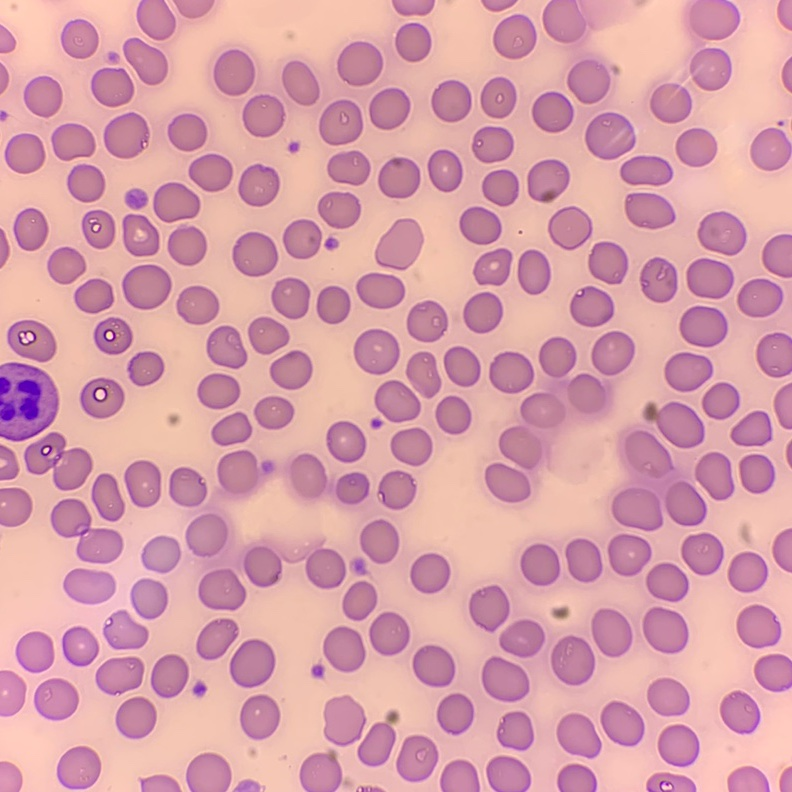RBC: (485, 337, 612, 502), (186, 450, 286, 609), (612, 429, 706, 530), (543, 0, 610, 103), (281, 41, 382, 105), (283, 454, 376, 516), (688, 0, 739, 90), (0, 363, 58, 441), (51, 499, 122, 562), (25, 433, 92, 489), (643, 402, 704, 447), (585, 112, 635, 159), (376, 219, 422, 269), (242, 82, 284, 136), (122, 265, 171, 309), (642, 607, 688, 653), (230, 639, 274, 687), (551, 636, 594, 685), (358, 711, 397, 765), (482, 657, 529, 701), (123, 38, 167, 84), (698, 212, 746, 254), (103, 113, 148, 157), (232, 232, 277, 276), (354, 329, 399, 373), (299, 545, 345, 588), (7, 320, 55, 361), (319, 99, 362, 144), (213, 49, 255, 95), (591, 609, 632, 656), (493, 14, 536, 58), (601, 701, 644, 745), (323, 626, 365, 671), (680, 306, 727, 346), (325, 697, 364, 745), (557, 714, 600, 757), (57, 746, 100, 789), (592, 331, 634, 375), (737, 605, 781, 647), (34, 678, 78, 720), (375, 380, 420, 421), (397, 735, 437, 781), (665, 352, 712, 391), (548, 207, 591, 249), (489, 352, 533, 393), (469, 586, 509, 631), (687, 259, 733, 298), (695, 452, 733, 499), (95, 657, 143, 694), (608, 534, 650, 576), (528, 159, 569, 202), (369, 611, 409, 655), (153, 183, 199, 221), (681, 533, 723, 574), (240, 695, 279, 739), (625, 193, 674, 228), (499, 619, 544, 657), (64, 569, 114, 603), (369, 88, 410, 129), (532, 91, 573, 132), (196, 618, 237, 659), (413, 645, 454, 686), (658, 725, 699, 766), (751, 128, 791, 170), (356, 273, 404, 308), (520, 543, 560, 585), (648, 83, 691, 122), (570, 287, 613, 326), (80, 378, 123, 417), (360, 519, 398, 563), (186, 753, 230, 791), (737, 279, 782, 316), (431, 80, 471, 121), (378, 157, 419, 197), (239, 164, 279, 205), (116, 697, 156, 738), (300, 751, 341, 791), (207, 326, 246, 368), (720, 691, 759, 733), (104, 611, 147, 649), (565, 538, 602, 582), (151, 654, 188, 698), (407, 301, 447, 341), (589, 242, 628, 283), (326, 421, 365, 462), (91, 68, 133, 106), (646, 563, 688, 601), (189, 154, 232, 191), (640, 258, 677, 301), (125, 461, 160, 506), (23, 76, 62, 116), (463, 292, 502, 332), (728, 552, 767, 592), (410, 553, 449, 593), (177, 286, 218, 324), (270, 351, 311, 389), (647, 678, 689, 715), (406, 352, 440, 397), (5, 134, 44, 173), (676, 128, 716, 166), (271, 278, 309, 318), (91, 474, 124, 520), (460, 207, 501, 244), (391, 428, 432, 465), (52, 123, 94, 159), (318, 192, 360, 228), (487, 756, 530, 791), (137, 0, 175, 39), (168, 226, 206, 265), (16, 632, 53, 672), (621, 156, 672, 185), (122, 214, 158, 255), (437, 693, 473, 734), (757, 333, 791, 376), (283, 220, 321, 258), (61, 19, 98, 58), (169, 467, 206, 506), (248, 317, 288, 353), (472, 127, 513, 162), (198, 373, 239, 408), (13, 208, 47, 250), (168, 113, 206, 150), (94, 317, 132, 354), (378, 471, 415, 509), (444, 347, 480, 386), (131, 579, 167, 618), (62, 627, 98, 666), (497, 711, 533, 750), (481, 77, 516, 117), (428, 150, 462, 191), (731, 411, 772, 445), (518, 250, 550, 293), (67, 164, 104, 201), (47, 247, 85, 283), (142, 536, 180, 572), (342, 581, 377, 620), (328, 151, 369, 184), (755, 654, 791, 691), (395, 23, 430, 61), (474, 249, 511, 284), (702, 383, 739, 418), (436, 396, 471, 433), (740, 454, 774, 492), (482, 170, 518, 205), (74, 279, 112, 312), (255, 396, 293, 429), (212, 413, 251, 445), (762, 234, 791, 277), (317, 286, 350, 323), (82, 210, 114, 248), (128, 351, 163, 385), (0, 488, 31, 526), (441, 760, 479, 791), (0, 671, 25, 715), (558, 764, 596, 791), (728, 767, 768, 791), (647, 773, 695, 791), (773, 529, 791, 571), (774, 385, 791, 428), (175, 0, 213, 18), (392, 0, 434, 15), (0, 762, 21, 791), (141, 775, 179, 791), (0, 446, 17, 479), (125, 189, 147, 208), (778, 0, 791, 28), (0, 27, 14, 52), (349, 557, 366, 575), (483, 0, 513, 10), (782, 60, 791, 89), (0, 232, 8, 264), (780, 768, 791, 791), (236, 780, 259, 791), (0, 66, 8, 91), (193, 681, 205, 696), (103, 52, 119, 63), (312, 664, 324, 678), (552, 608, 568, 618), (326, 238, 336, 248), (289, 142, 298, 151), (361, 786, 377, 791), (371, 419, 380, 427), (289, 554, 297, 562), (0, 110, 6, 120), (787, 445, 791, 460)
